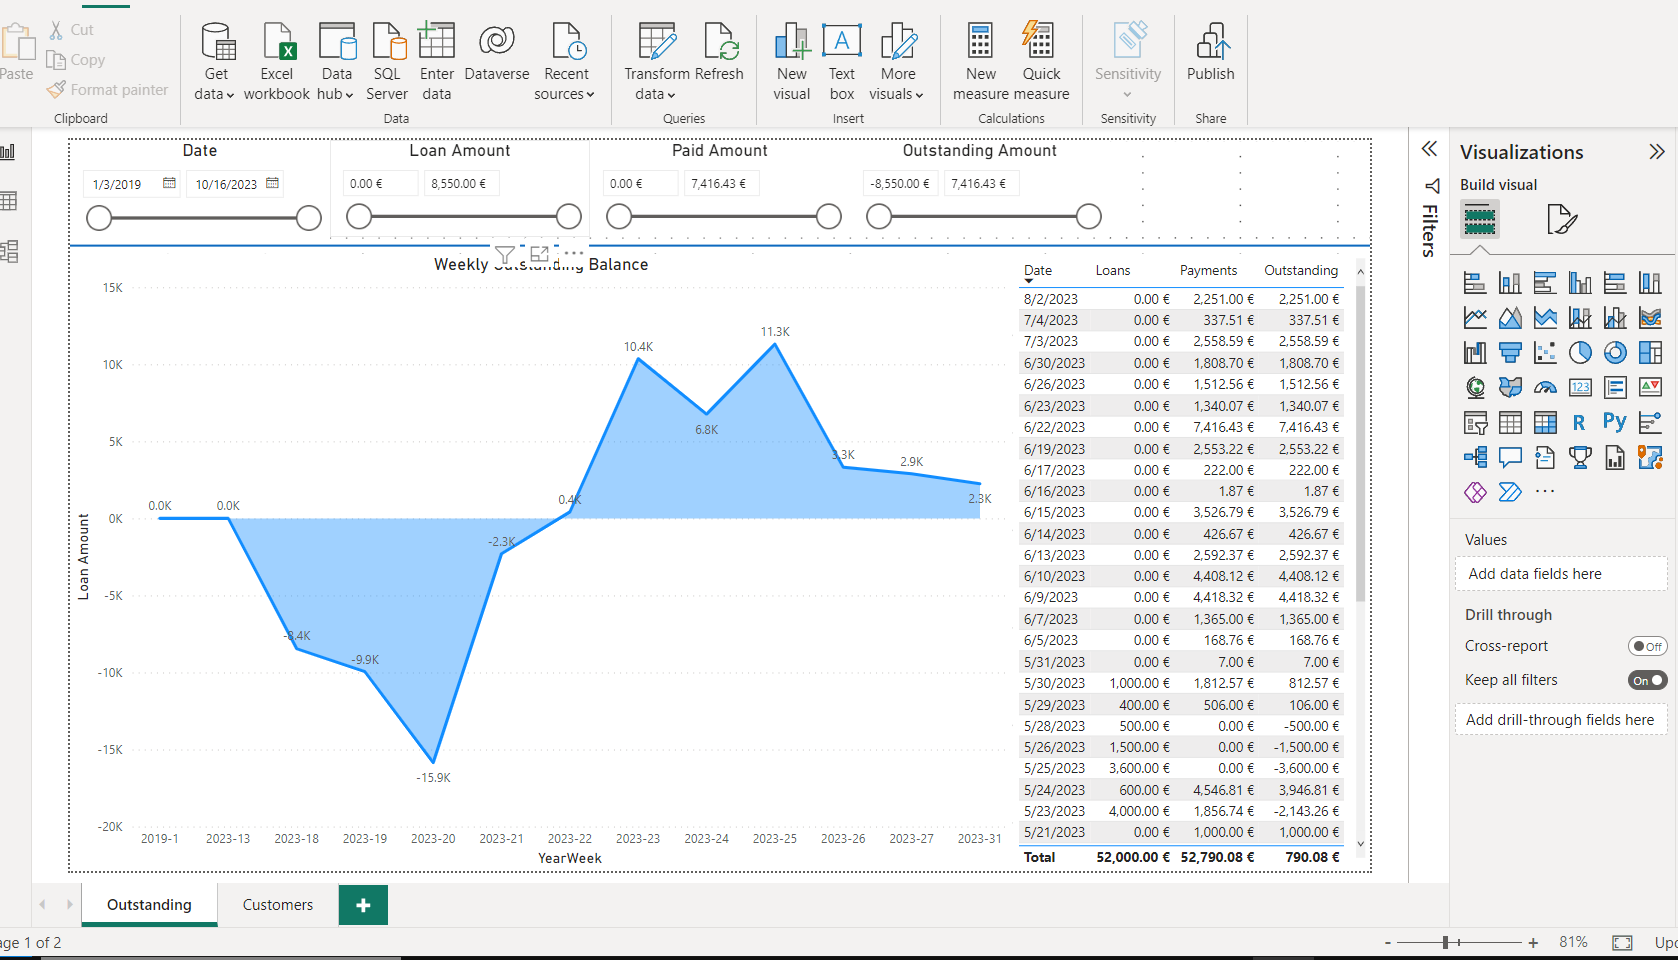

Layout of this report page (visuals, bound fields, positions):
{"tool":"powerbi","page":{"name":"Outstanding","canvas":[1280,720],"ordinal":0},"visuals":[{"type":"areaChart","title":"Weekly Outstanding Balance","fields":{"Category":["Dim Date.YearWeek"],"Y":["Dim Date.Loan Amount"]},"box":[0,112,928,608],"z":0},{"type":"slicer","title":"Date","fields":{"Values":["Dim Date.Date"]},"box":[0,0,256,112],"z":1},{"type":"tableEx","fields":{"Values":["Daily Outstanding Facts.date","Sum(Daily Outstanding Facts.loan_amount_end)","Sum(Daily Outstanding Facts.payment_amount_end)","Sum(Daily Outstanding Facts.outstanding)"]},"box":[928,112,352,608],"z":2},{"type":"shape","box":[0,96,1280,16],"z":3},{"type":"slicer","title":"Loan Amount","fields":{"Values":["Daily Outstanding Facts.loan_amount_end"]},"box":[256,0,256,96],"z":4},{"type":"slicer","title":"Paid Amount","fields":{"Values":["Daily Outstanding Facts.payment_amount_end"]},"box":[512,0,256,96],"z":5},{"type":"slicer","title":"Outstanding Amount","fields":{"Values":["Daily Outstanding Facts.outstanding"]},"box":[768,0,256,96],"z":6}]}

Visuals, with their boxes on the page's 1280x720 design canvas (x1, y1, x2, y2). These are canvas units, not pixel positions in the 1678x960 screenshot, which may show the page scaled, cropped or inside an application window:
"Weekly Outstanding Balance" areaChart: (0, 112, 928, 720)
"Date" slicer: (0, 0, 256, 112)
tableEx - Daily Outstanding Facts.date x Sum(Daily Outstanding Facts.loan_amount_end): (928, 112, 1280, 720)
shape: (0, 96, 1280, 112)
"Loan Amount" slicer: (256, 0, 512, 96)
"Paid Amount" slicer: (512, 0, 768, 96)
"Outstanding Amount" slicer: (768, 0, 1024, 96)
